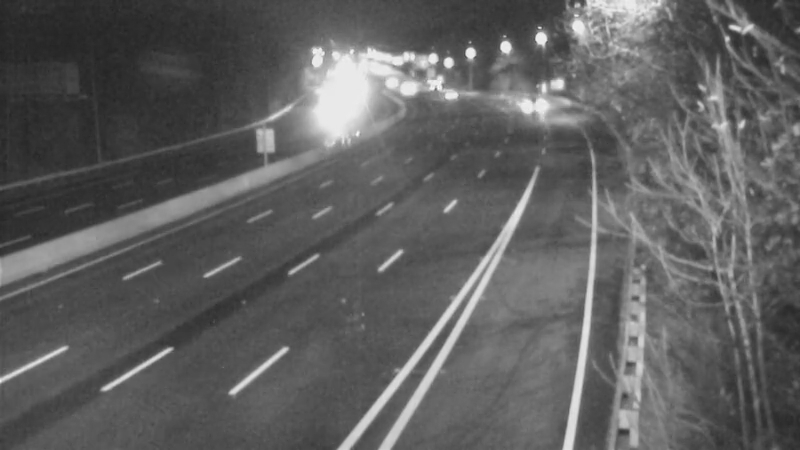vehicle: (407, 59, 457, 109), (362, 59, 412, 109), (387, 65, 437, 115), (425, 69, 475, 119), (509, 78, 559, 128), (303, 77, 353, 127)
